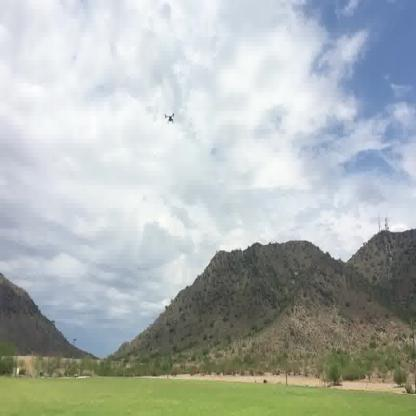drone: (162, 110, 176, 134)
